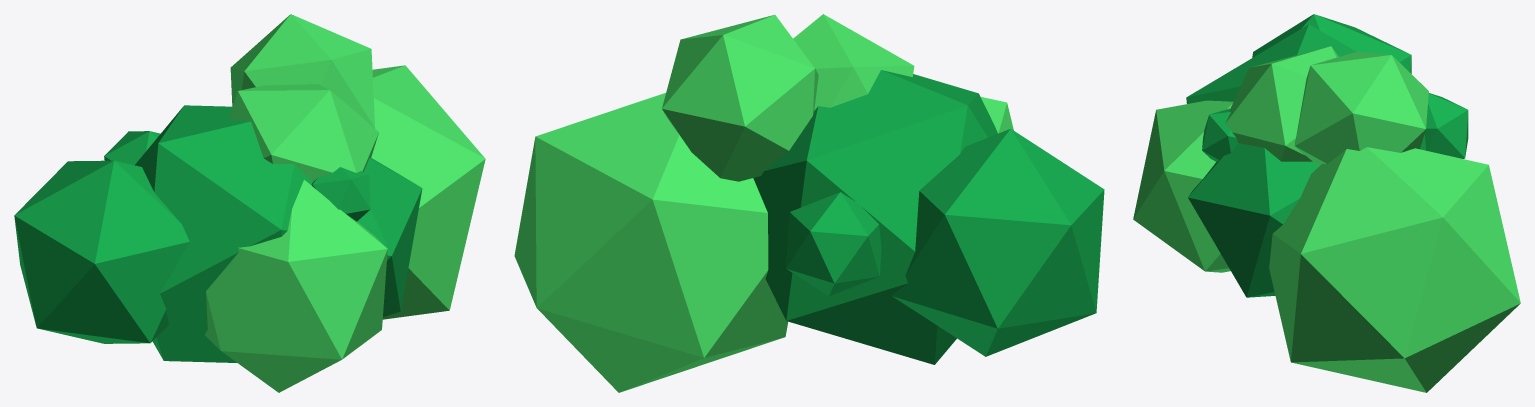
3 views of the same model, side by side, from view 1: azimuth 30°, elevation 25°; view 2: azimuth 150°, elevation 25°; view 3: azimuth 270°, elevation 25° (orthographic). The views are drawn at different scales.
Visible parts, largest first — view 1: Icosphere.009, Icosphere.002, Icosphere.003, Icosphere.008, Icosphere.001, Icosphere.007, Icosphere, Icosphere.006, Icosphere.010; view 2: Icosphere.008, Icosphere.009, Icosphere.003, Icosphere.007, Icosphere.010, Icosphere.001, Icosphere.002; view 3: Icosphere.008, Icosphere.007, Icosphere, Icosphere.002, Icosphere.001, Icosphere.003, Icosphere.010, Icosphere.009, Icosphere.006.
Boxes of the visible parts, box(x1,y1,x2,y2) form: Icosphere.009: box(14, 160, 189, 343); Icosphere.002: box(204, 180, 387, 392); Icosphere.003: box(135, 105, 312, 362); Icosphere.008: box(371, 65, 485, 319); Icosphere.001: box(229, 84, 378, 181); Icosphere.007: box(230, 14, 374, 127); Icosphere: box(357, 158, 422, 316); Icosphere.006: box(311, 167, 370, 221); Icosphere.010: box(104, 131, 160, 165); Icosphere.008: box(514, 93, 787, 392); Icosphere.009: box(892, 128, 1104, 356); Icosphere.003: box(753, 70, 997, 364); Icosphere.007: box(662, 14, 818, 181); Icosphere.010: box(786, 192, 881, 296); Icosphere.001: box(793, 14, 914, 110); Icosphere.002: box(980, 96, 1013, 133); Icosphere.008: box(1269, 147, 1520, 392); Icosphere.007: box(1294, 51, 1428, 165); Icosphere: box(1188, 143, 1319, 297); Icosphere.002: box(1133, 100, 1233, 272); Icosphere.001: box(1225, 46, 1338, 161); Icosphere.003: box(1186, 24, 1425, 150); Icosphere.010: box(1424, 93, 1468, 158); Icosphere.009: box(1252, 14, 1411, 73); Icosphere.006: box(1202, 108, 1237, 161).
Size of the model in its own units: 1143 by 751 by 869.
